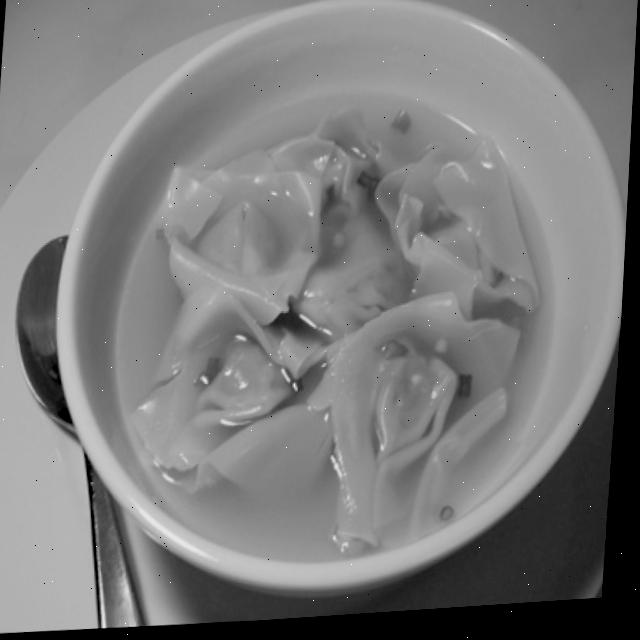汤锅炖物: (47, 2, 635, 595)
